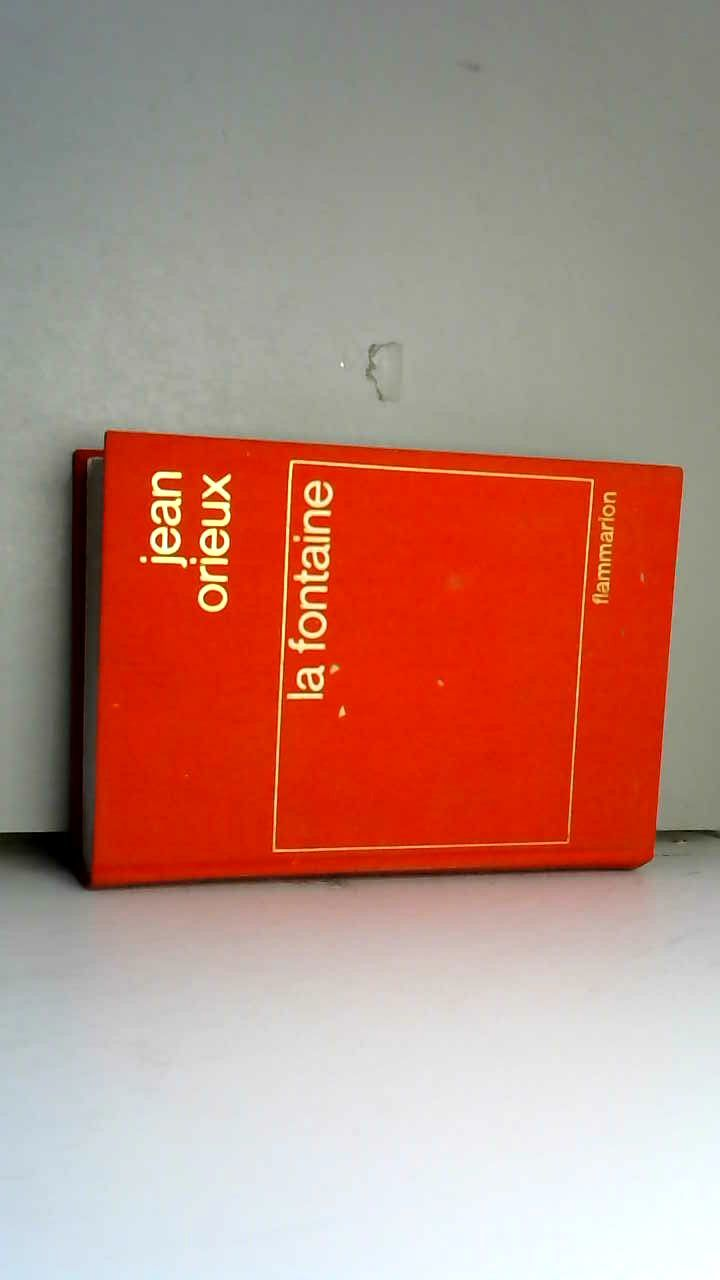book: (46, 411, 696, 913)
